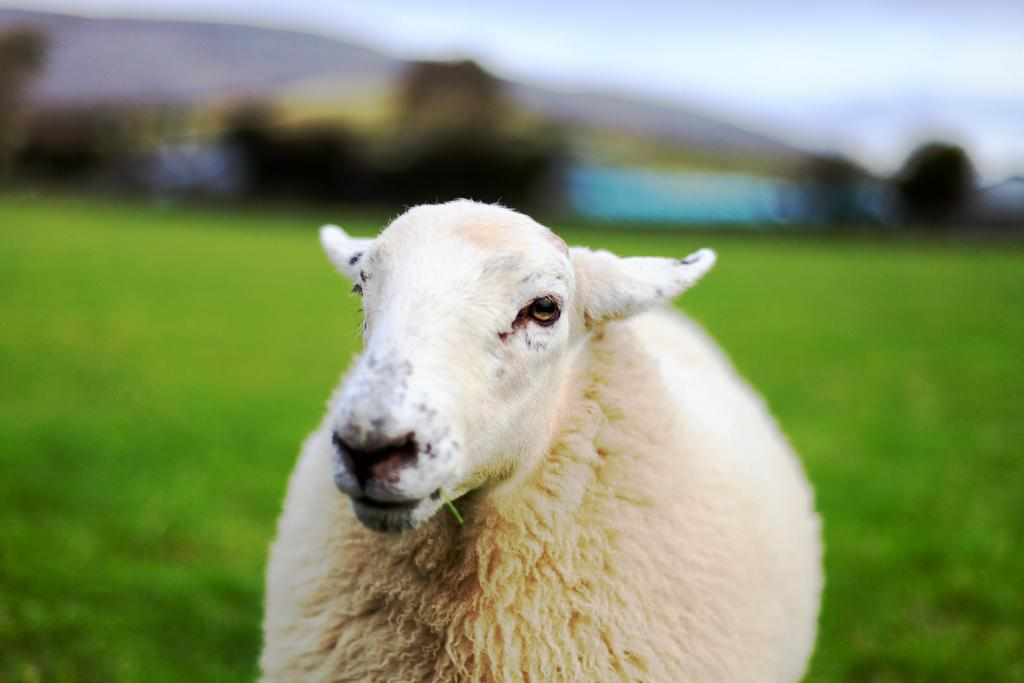Sheep: (255, 195, 826, 683)
